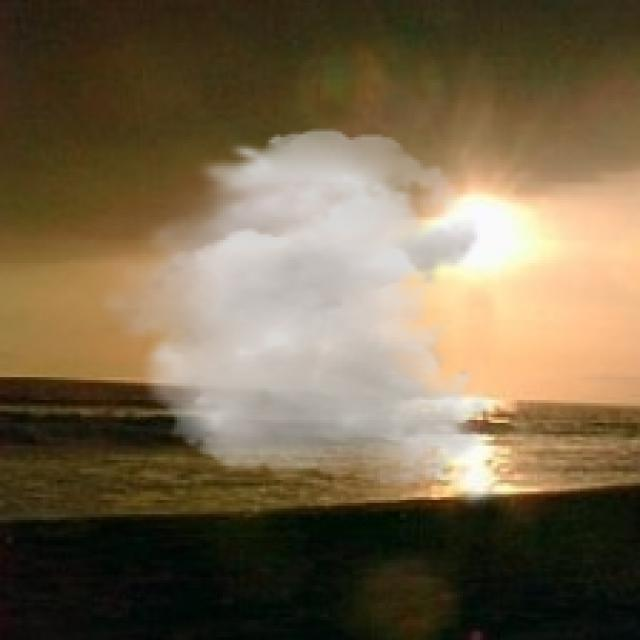Smoke: (91, 128, 492, 488)
